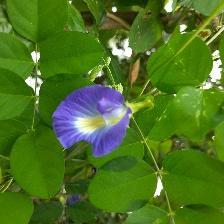shankupushpam: (49, 82, 134, 162)
